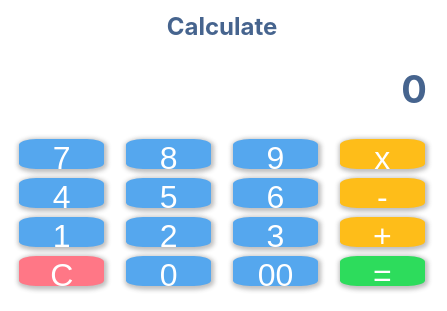
When the = button is pressed after an operation is typed › shows the result in the display
The width and height of the screenshot is (447, 311).
// Simulacion de operacion: 5-2
Click the button "5" at point(169, 193), box [126,178,211,208]
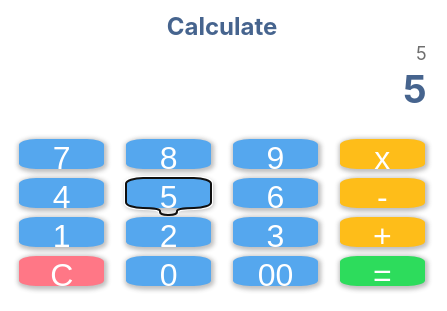
Click the button "-" at point(382, 193), box [340,178,425,208]
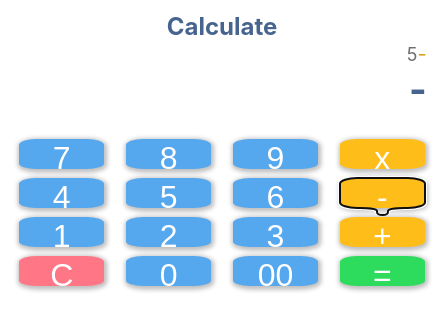
Click the button "2" at point(169, 232), box [126,217,211,247]
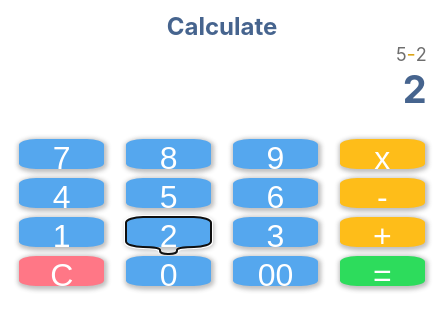
Click the button "=" at point(382, 271), box [340,256,425,286]
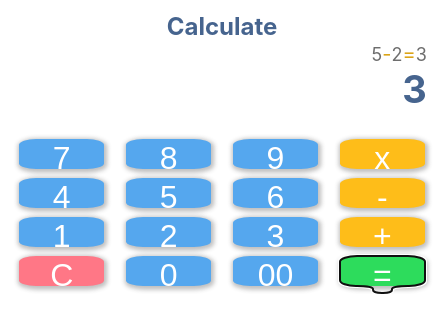
Expected: the heading "0" reads "3", [402,66,427,112]
